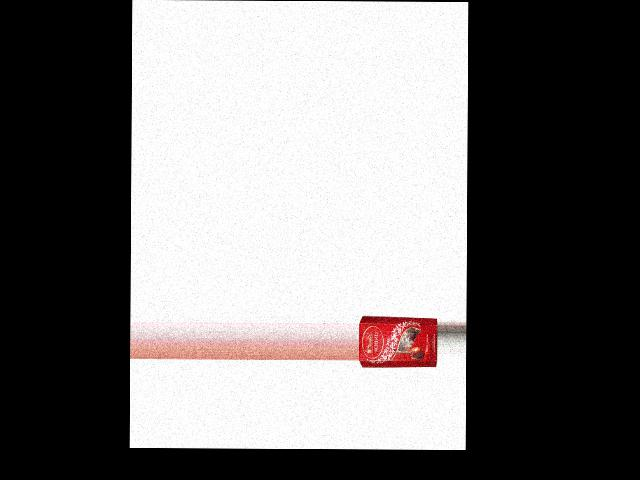chocolate: (359, 314, 438, 371)
